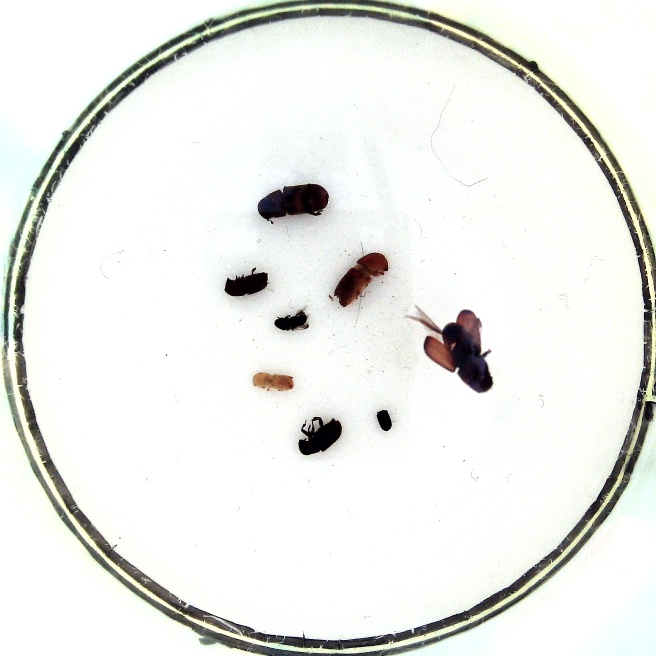acuminatus: (250, 369, 298, 393)
armandi: (293, 414, 343, 457)
boerner: (329, 251, 391, 309)
coleoptera: (270, 303, 314, 334), (373, 406, 397, 433)
leconte: (402, 303, 497, 396), (253, 180, 330, 222)
linnaeus: (223, 266, 270, 298)
